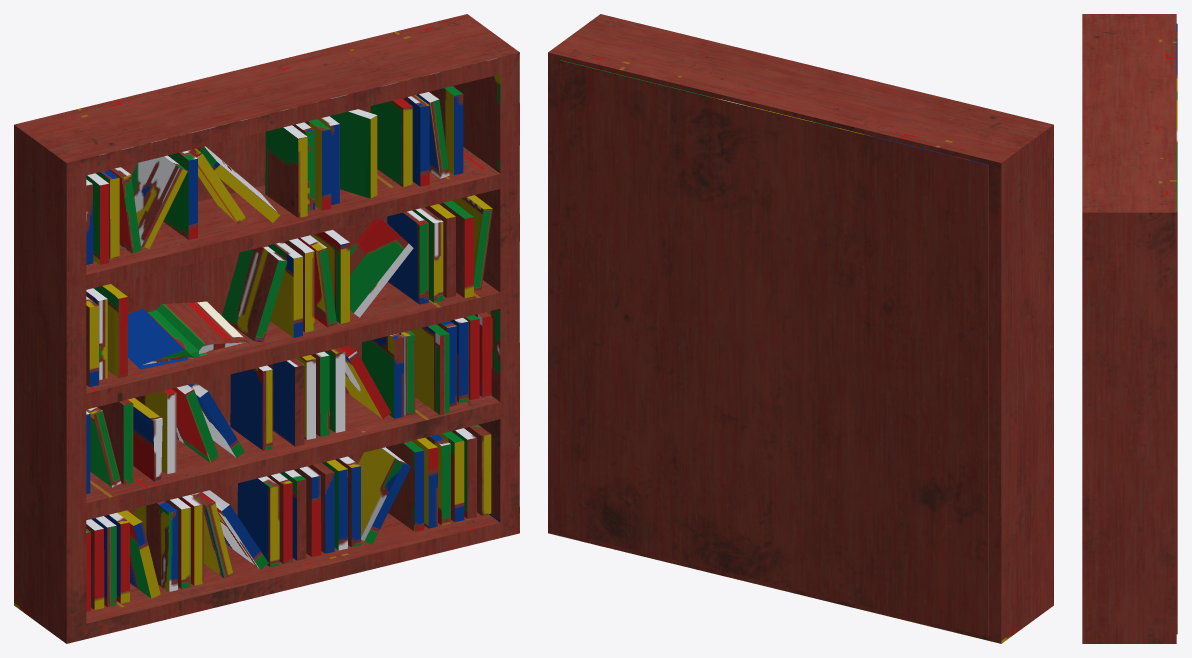
File: bookshelf1_lowPoly.fbx
The picture shows the model from 3 angles, left to right: view 1: azimuth 30°, elevation 25°; view 2: azimuth 150°, elevation 25°; view 3: azimuth 270°, elevation 25°; orthographic projection. The views are drawn at different scales.
Visible parts, largest first — view 1: pCube94.001; view 2: pCube94.001; view 3: pCube94.001.
Part boxes in pixels (<box>): pCube94.001: <box>14,14,519,643</box>; pCube94.001: <box>548,14,1053,643</box>; pCube94.001: <box>1082,14,1177,643</box>.
Bounding box in the file's own units: 255 × 259 × 51.71.
